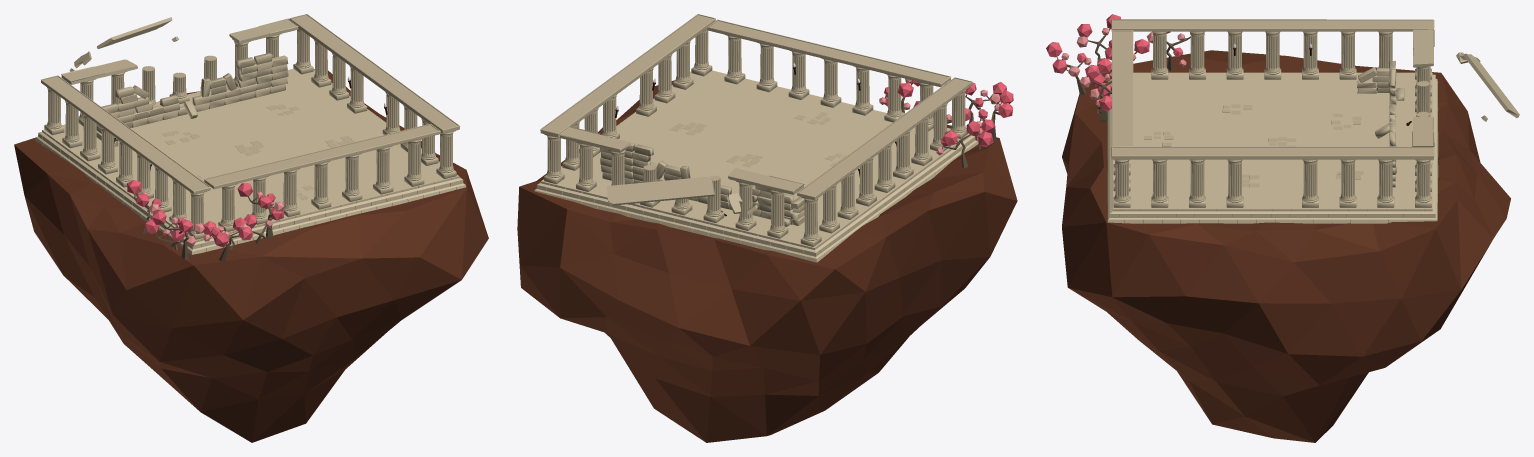
The model's file is Puzzle island 1 main island(spawn_location).fbx.
3 views of the same model, side by side, from view 1: azimuth 30°, elevation 25°; view 2: azimuth 150°, elevation 25°; view 3: azimuth 270°, elevation 25° (orthographic). The views are drawn at different scales.
Parts seen in each view (by area): view 1: Floating Ground, Flooring, Wall 1, Roof 1, Roof 2, Roof 4, Roof 5, Roof 3, Tree.004, Pillar.022, Pillar.024, Pillar.023 (+24 smaller); view 2: Floating Ground, Flooring, Roof 1, Roof 2, Roof 4, Wall 1, Broken Roof 1, Roof 5, Roof 3, Pillar.015, Pillar.005, Pillar.025 (+26 smaller); view 3: Floating Ground, Flooring, Roof 1, Roof 2, Roof 4, Wall 1, Roof 5, Wall 1.001, Tree, Pillar.002, Pillar.005, Pillar.007 (+17 smaller).
Boxes of the visible parts, bbox=[...] form: Floating Ground: bbox=[14, 69, 488, 442]; Flooring: bbox=[35, 68, 466, 254]; Wall 1: bbox=[101, 53, 288, 127]; Roof 1: bbox=[289, 14, 460, 133]; Roof 2: bbox=[41, 75, 210, 194]; Roof 4: bbox=[204, 123, 440, 189]; Roof 5: bbox=[61, 59, 137, 84]; Roof 3: bbox=[229, 18, 298, 43]; Tree.004: bbox=[152, 210, 204, 259]; Pillar.022: bbox=[311, 161, 331, 209]; Pillar.024: bbox=[373, 146, 393, 194]; Pillar.023: bbox=[342, 153, 362, 201]; Floating Ground: bbox=[517, 80, 1017, 442]; Flooring: bbox=[534, 70, 978, 262]; Roof 1: bbox=[540, 14, 715, 137]; Roof 2: bbox=[797, 77, 972, 199]; Roof 4: bbox=[707, 19, 950, 87]; Wall 1: bbox=[600, 142, 793, 226]; Broken Roof 1: bbox=[607, 176, 714, 205]; Roof 5: bbox=[728, 168, 804, 194]; Roof 3: bbox=[559, 126, 630, 152]; Pillar.015: bbox=[800, 197, 821, 246]; Pillar.005: bbox=[544, 134, 564, 184]; Pillar.025: bbox=[576, 142, 596, 191]; Floating Ground: bbox=[1062, 50, 1510, 442]; Flooring: bbox=[1107, 72, 1438, 223]; Roof 1: bbox=[1111, 147, 1434, 159]; Roof 2: bbox=[1111, 19, 1434, 31]; Roof 4: bbox=[1112, 30, 1133, 146]; Wall 1: bbox=[1375, 60, 1404, 187]; Roof 5: bbox=[1413, 29, 1434, 67]; Wall 1.001: bbox=[1357, 67, 1396, 93]; Tree: bbox=[1046, 42, 1091, 94]; Pillar.002: bbox=[1302, 159, 1318, 207]; Pillar.005: bbox=[1415, 159, 1431, 207]; Pillar.007: bbox=[1189, 159, 1205, 207].
Bounding box in the file's own units: 11996 × 10075 × 12528.
